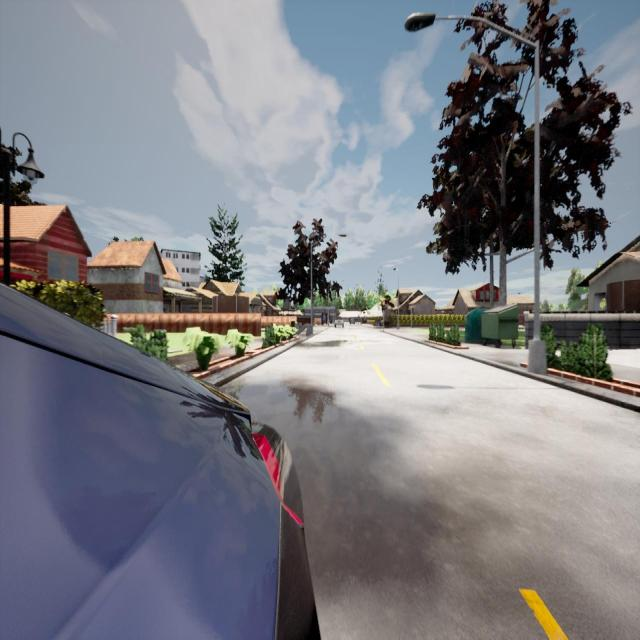Vehicle: (0, 285, 318, 638), (334, 316, 344, 328), (350, 318, 356, 325)
traffic_light: (382, 301, 385, 310)
